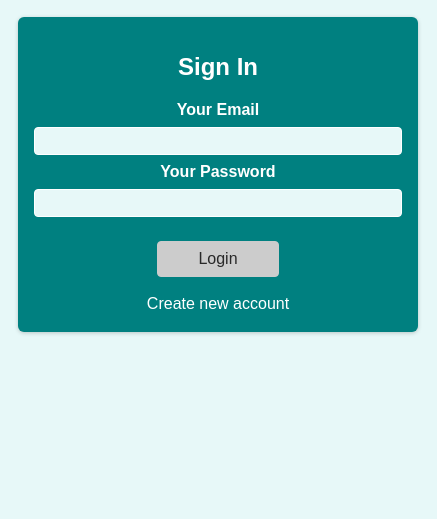
Test: Login page › Sign Up form › renders full name error if full name is empty
Click the button "Create new account" at [218, 304], box [123,293,313,316]
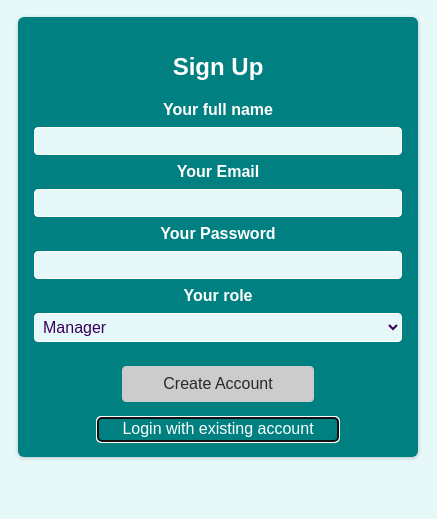
Leave the field named "fullName-input", box [34,127,402,155]
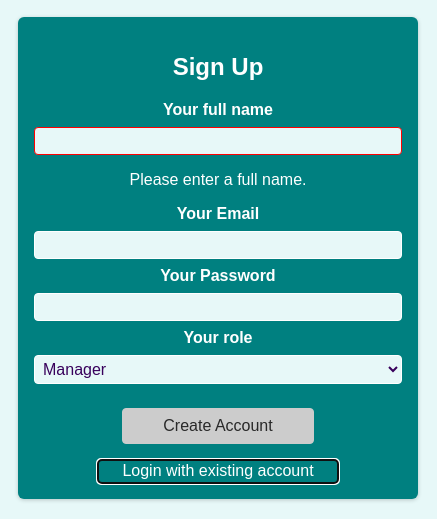
Expected: the text "Please enter a full name." is shown, [130,171,306,188]
